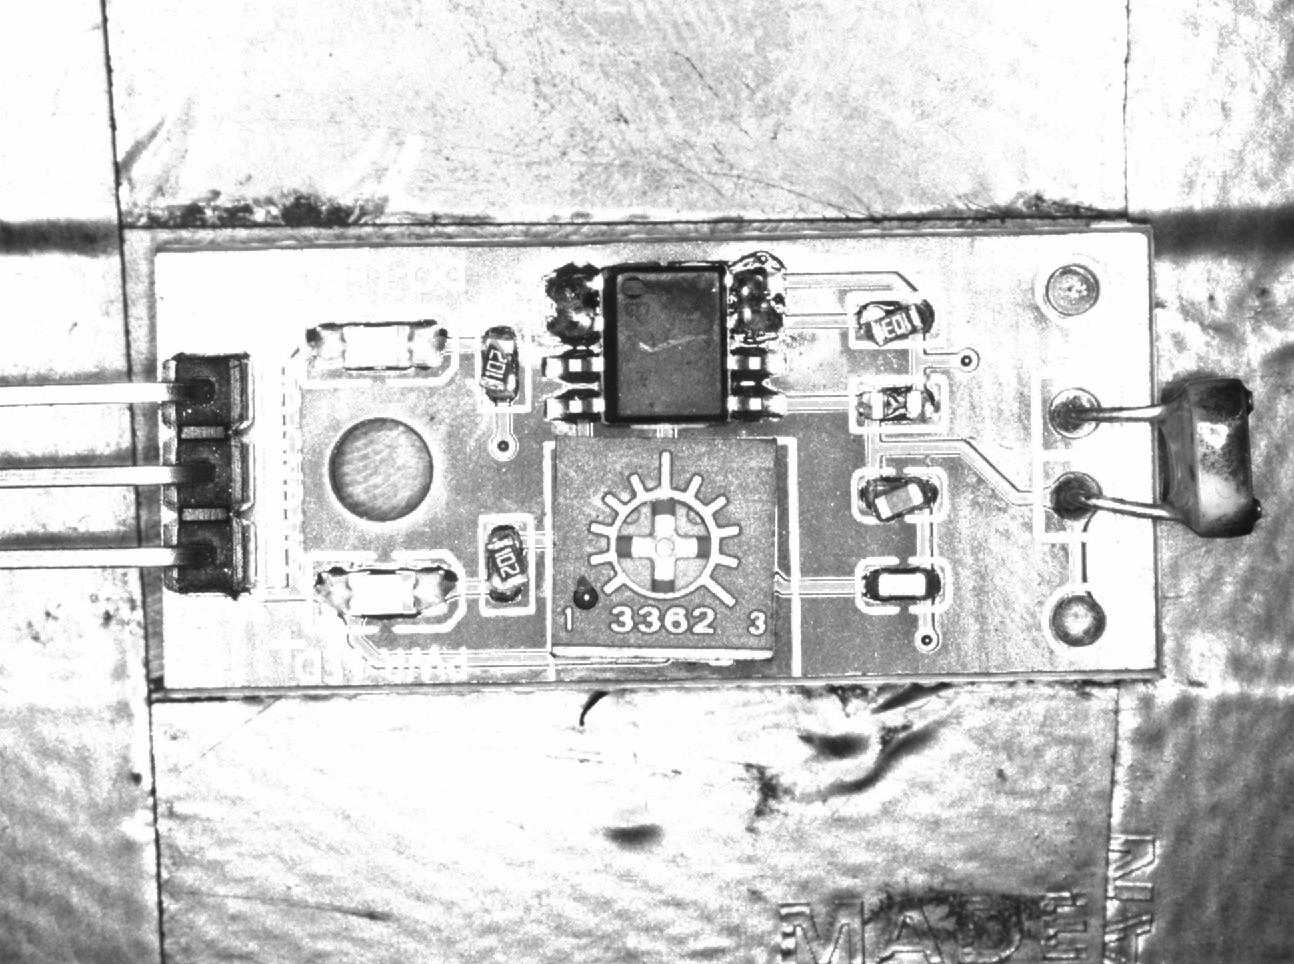bridge: (544, 267, 603, 344), (727, 264, 787, 336)
lifted: (847, 291, 946, 351), (479, 516, 534, 614), (853, 469, 948, 523), (476, 318, 530, 412)
miss: (851, 378, 951, 431)
ok: (856, 559, 952, 611)
